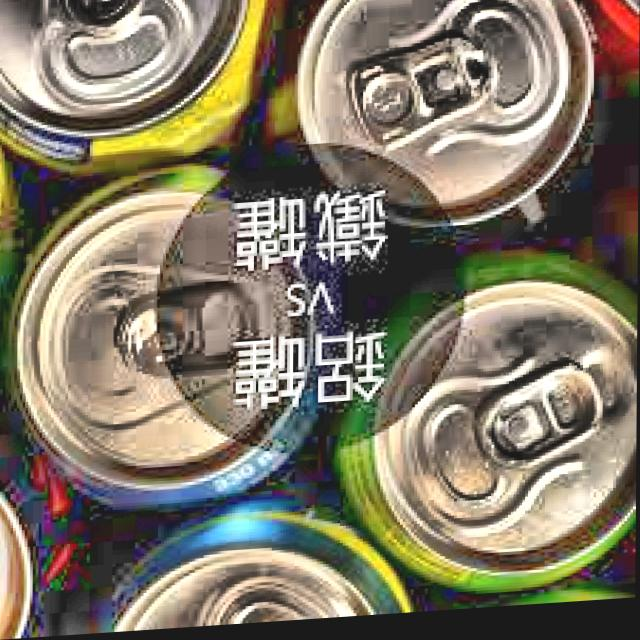can: (331, 247, 637, 622), (2, 167, 324, 522), (280, 0, 603, 267), (0, 0, 281, 198), (95, 491, 435, 635), (0, 451, 77, 640)
